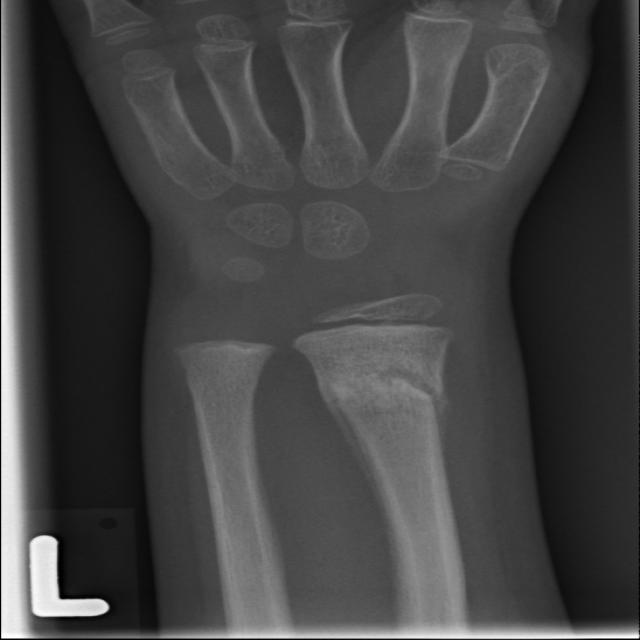radius fracture: (313, 336, 497, 524)
